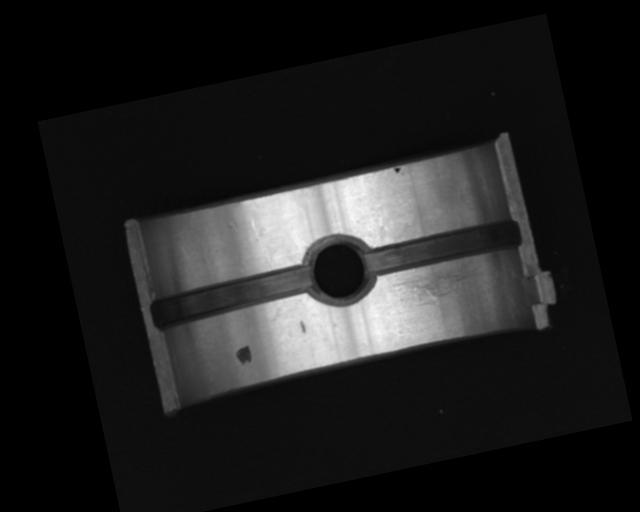blot: (234, 344, 254, 367), (393, 165, 405, 177)
bruise: (298, 319, 306, 334)
gap: (148, 263, 318, 333), (363, 217, 522, 275)
hole: (302, 228, 379, 309)
nick: (249, 218, 272, 271)
scratch: (386, 260, 492, 307)
